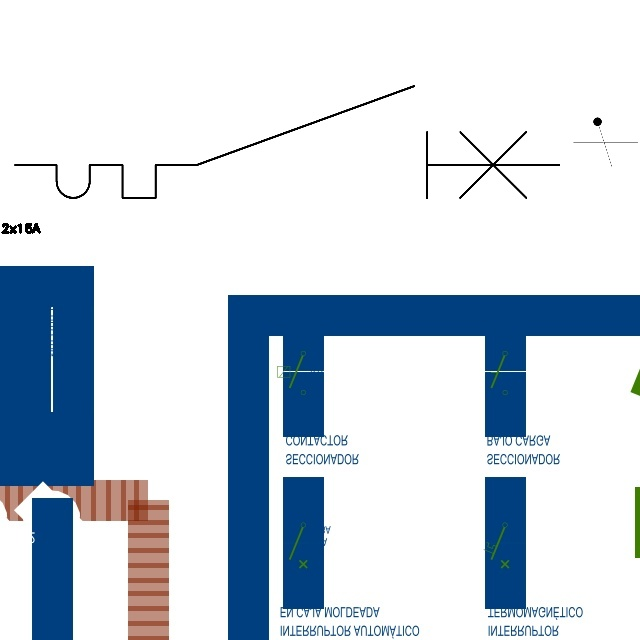interruptor_termomagnetico: (1, 72, 573, 212)
